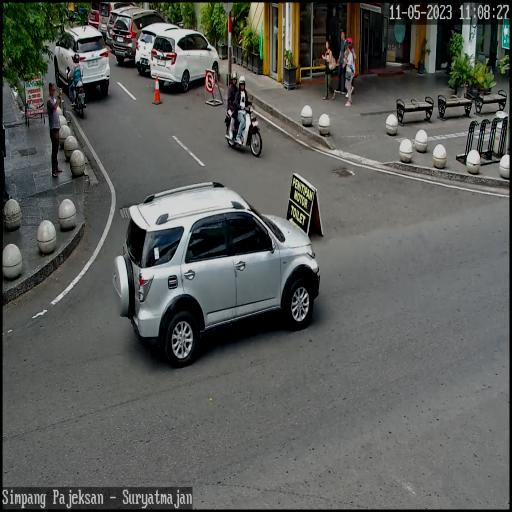mobil: (109, 179, 322, 371), (53, 23, 112, 102), (149, 30, 219, 95), (112, 10, 173, 66), (135, 19, 182, 83)
motor: (222, 98, 262, 162), (68, 67, 86, 118)
